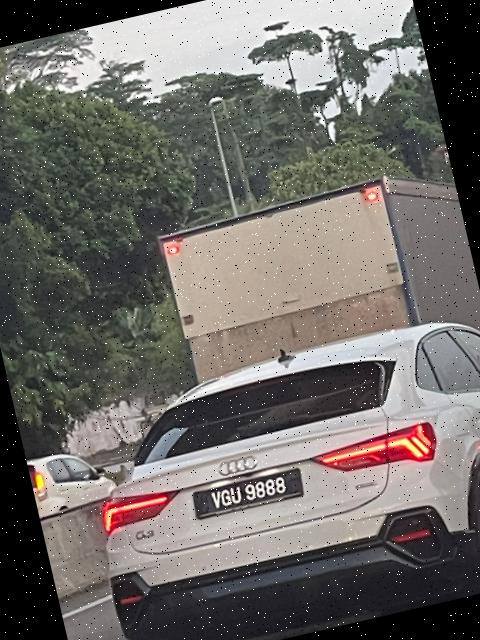License_Plate: (200, 469, 298, 516)
car: (59, 305, 480, 640)
